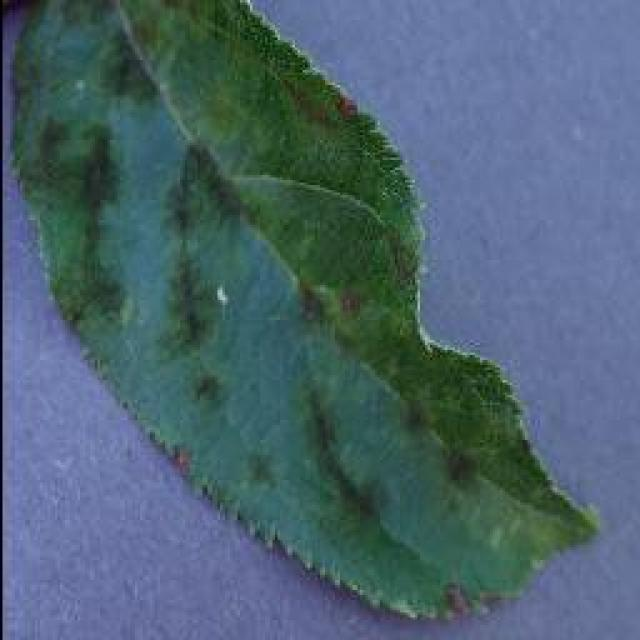Apple___Apple_scab: (7, 0, 605, 622)
